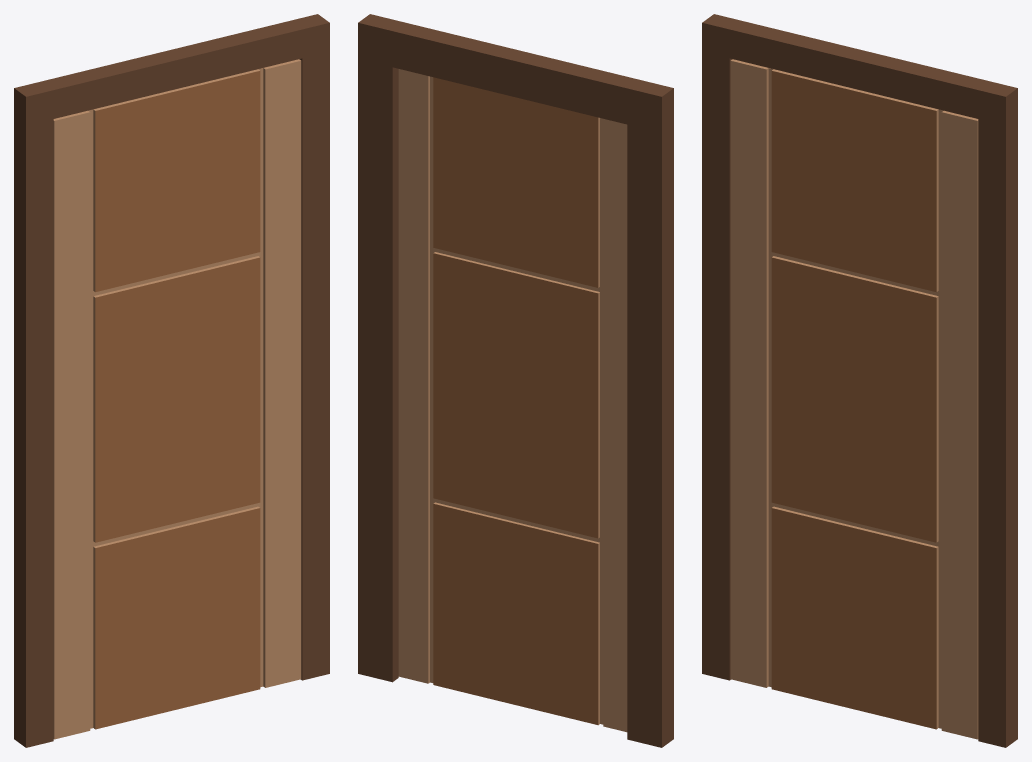
Rendered from Door.fbx.
3 views of the same model, side by side, from view 1: azimuth 30°, elevation 25°; view 2: azimuth 150°, elevation 25°; view 3: azimuth 330°, elevation 25° (orthographic).
Visible parts, largest first — view 1: Door.011, DoorFrame.011; view 2: Door.011, DoorFrame.011; view 3: Door.011, DoorFrame.011.
Part boxes in pixels (x1=…): Door.011: x1=53, y1=59, x2=301, y2=739; DoorFrame.011: x1=14, y1=14, x2=329, y2=747; Door.011: x1=398, y1=69, x2=627, y2=732; DoorFrame.011: x1=358, y1=14, x2=673, y2=747; Door.011: x1=730, y1=59, x2=978, y2=739; DoorFrame.011: x1=702, y1=14, x2=1017, y2=747.
Bounding box in the file's own units: 196 × 401 × 13.36.
